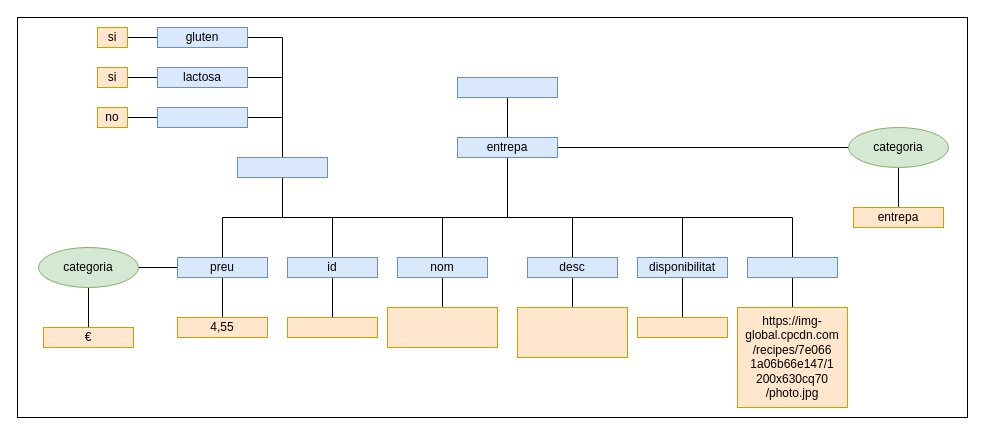
This 985x435 diagram has some shape labels left out. The centre of each missing label's shape, as x and y in pixels:
"alergens" goes at (282,167).
"enEstoc" goes at (682,327).
"ent-01" goes at (332,327).
"Entrepa-de-baco-i-formatge" goes at (442,327).
"Es-un-entrepa-de-baco-fregit-i-formatge-fos" goes at (572,332).
"img" goes at (792,267).
"ou" goes at (202,117).
"productes" goes at (507,87).
